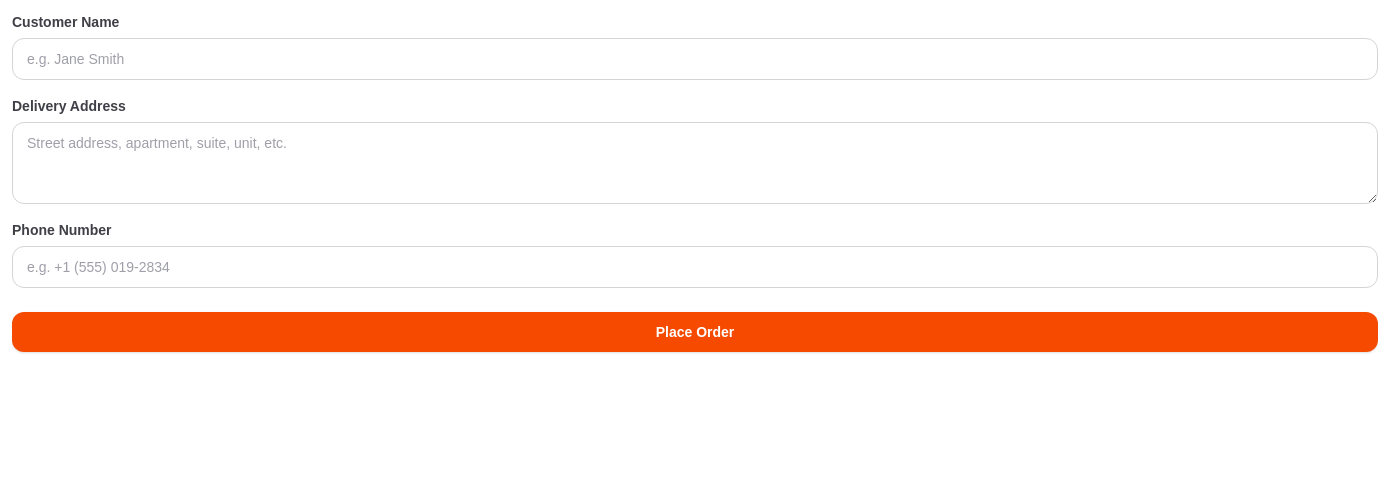
Test case: CheckoutForm Component › displays field-level validation errors on empty submission
Click the button "Place Order".
click(695, 332)  # box top-left (12, 312), bottom-right (1378, 352)
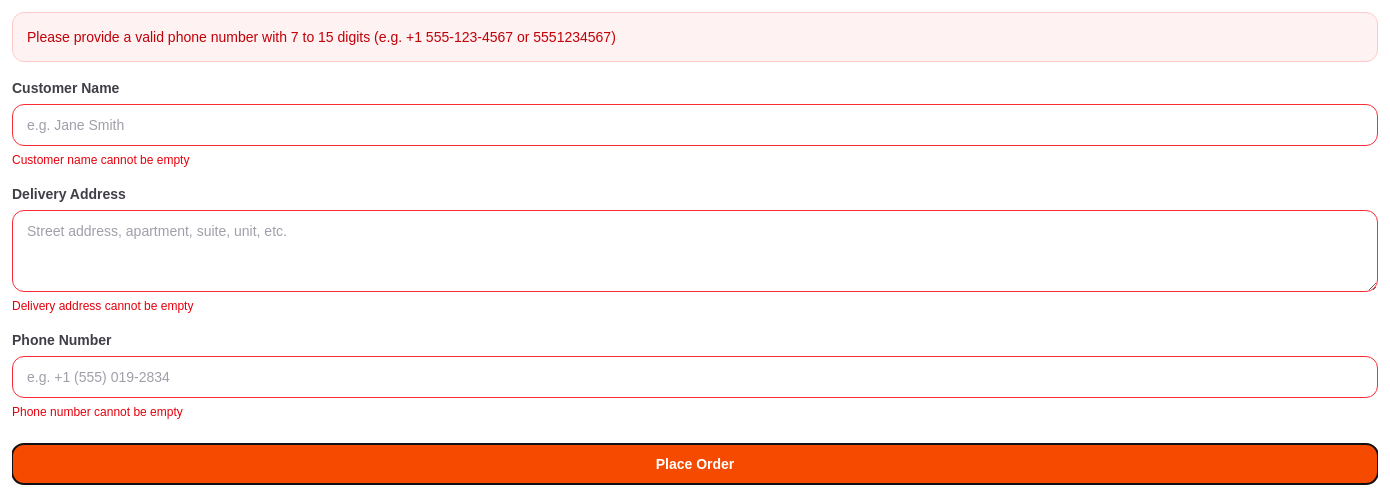
Now the text "Customer name cannot be empty" is shown, box top-left (12, 153), bottom-right (189, 167)
Now the text "Delivery address cannot be empty" is shown, box top-left (12, 299), bottom-right (193, 313)
Now the text "Phone number cannot be empty" is shown, box top-left (12, 405), bottom-right (183, 419)
